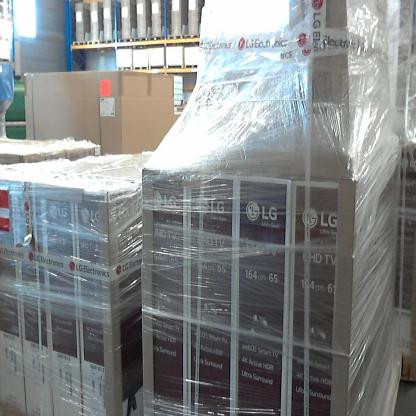pallet: (167, 34, 183, 40), (184, 64, 198, 70), (148, 36, 164, 41), (184, 34, 200, 39), (73, 41, 87, 46), (100, 40, 114, 45), (118, 38, 132, 43), (134, 37, 148, 42), (133, 66, 149, 70), (87, 40, 99, 45)
